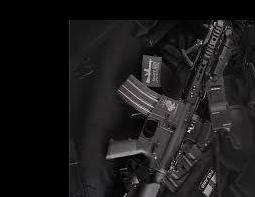larga: (104, 20, 235, 197)
